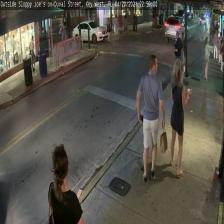person: (48, 142, 84, 224), (170, 59, 192, 178)
